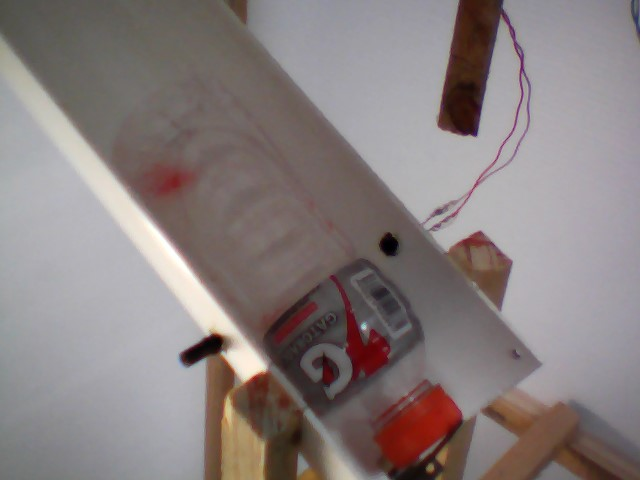plastico: (97, 60, 472, 467)
